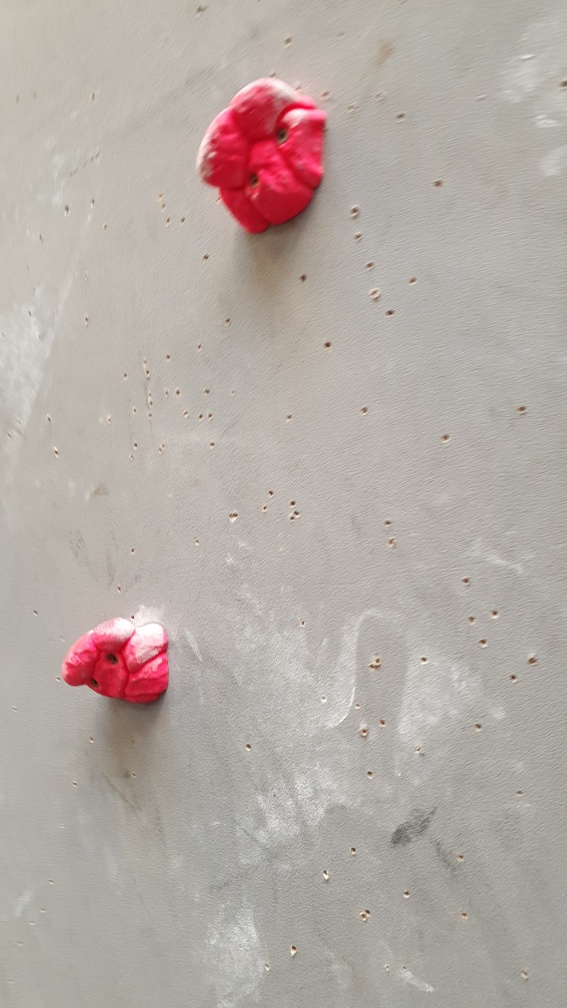Jug: (197, 73, 328, 241), (63, 612, 172, 711)
